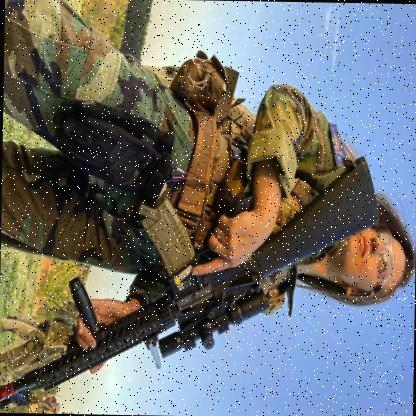rifle: (0, 147, 394, 416)
